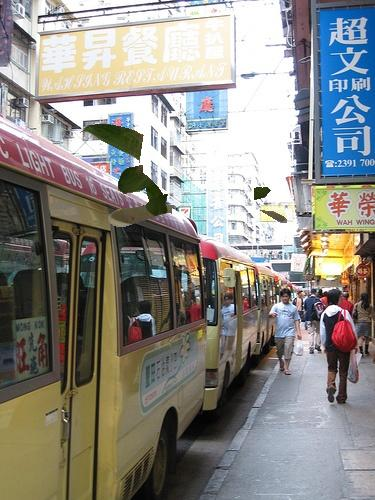tampered: (81, 124, 287, 227)
